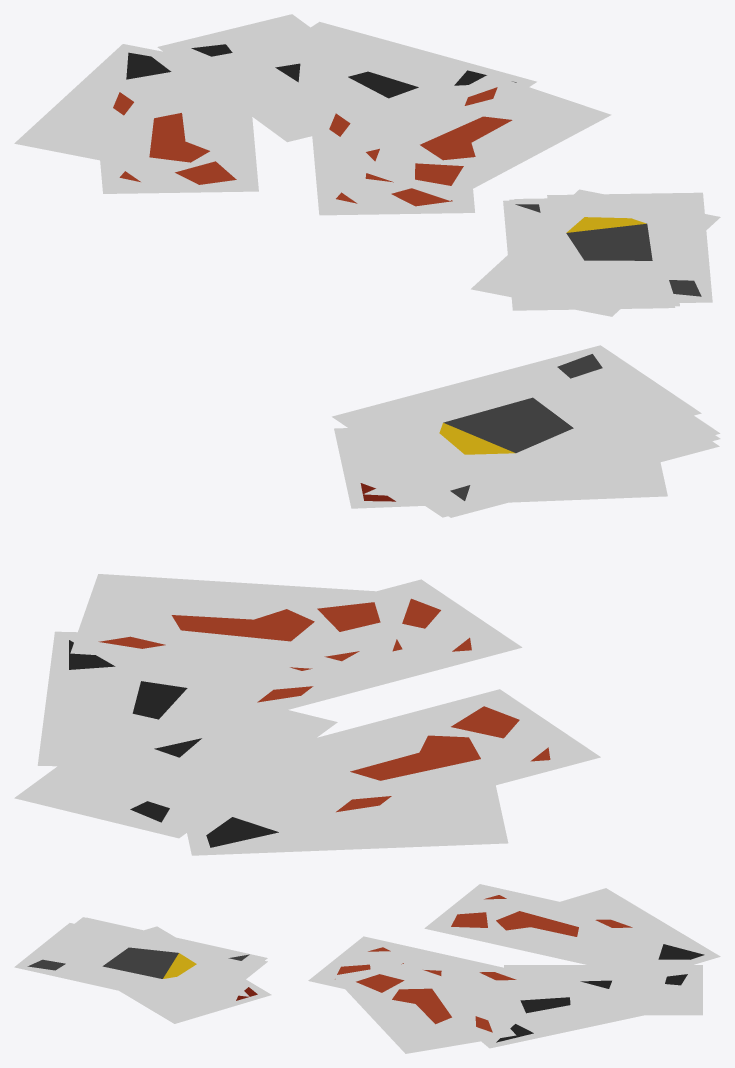
The model's file is playingCardsDeco.glb.
3 views of the same model, one above another, from view 1: azimuth 30°, elevation 25°; view 2: azimuth 150°, elevation 25°; view 3: azimuth 270°, elevation 25° (orthographic). The views are drawn at different scales.
Parts seen in each view (by area): view 1: Plane; view 2: Plane; view 3: Plane.
Boxes of the visible parts, left/top/right/bottom form: Plane: left=14, top=14, right=720, bottom=316; Plane: left=14, top=345, right=720, bottom=855; Plane: left=14, top=884, right=720, bottom=1053.
Size of the model in its own units: 0.1238 by 0.0123 by 0.2122.
Materials: 1 (1 with a texture image).
